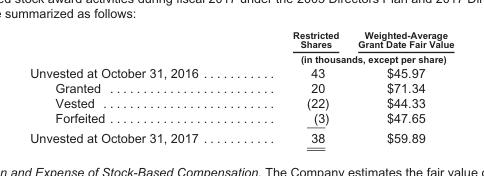table: (29, 28, 453, 145)
table column: (29, 28, 244, 145), (347, 28, 453, 145), (244, 28, 347, 145)
table column header: (29, 28, 453, 64)
table row: (29, 28, 453, 50), (29, 127, 453, 145), (29, 110, 453, 127), (29, 94, 453, 110), (29, 64, 453, 79), (29, 79, 453, 94), (29, 50, 453, 64)
table spanning cell: (244, 50, 453, 64)
